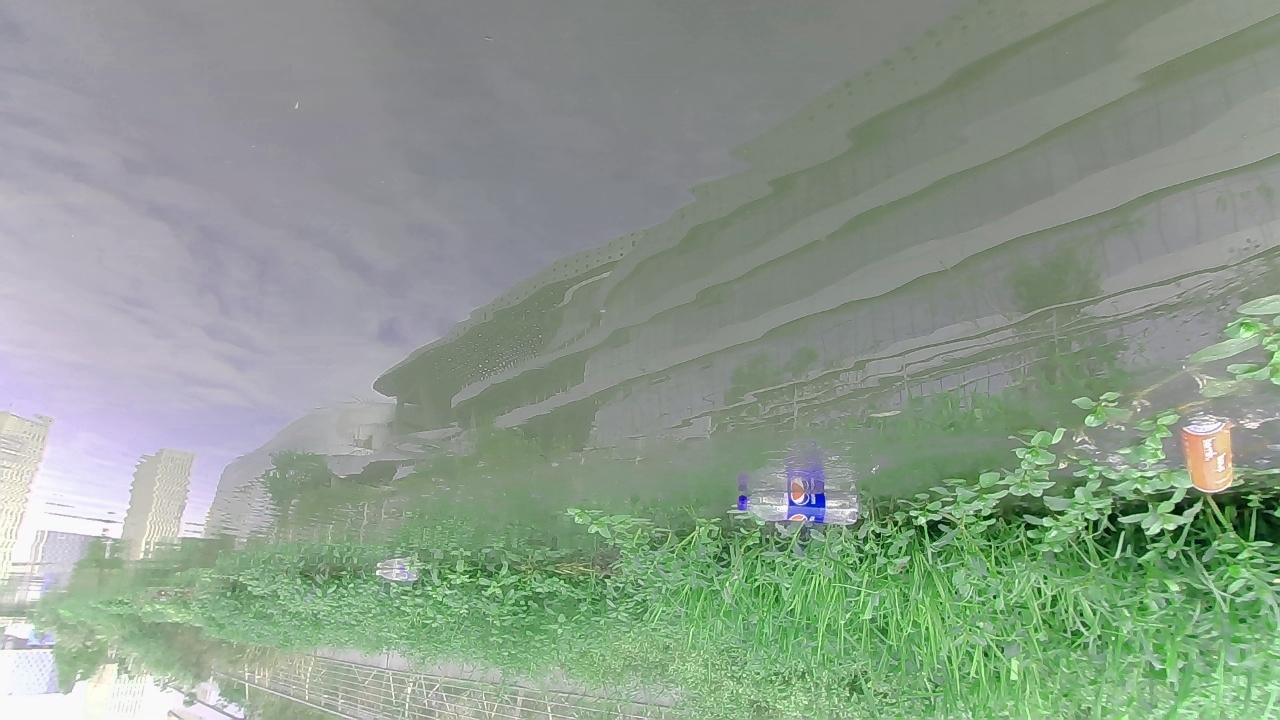Metal: (1179, 420, 1235, 494)
Plastic: (737, 489, 859, 526)
